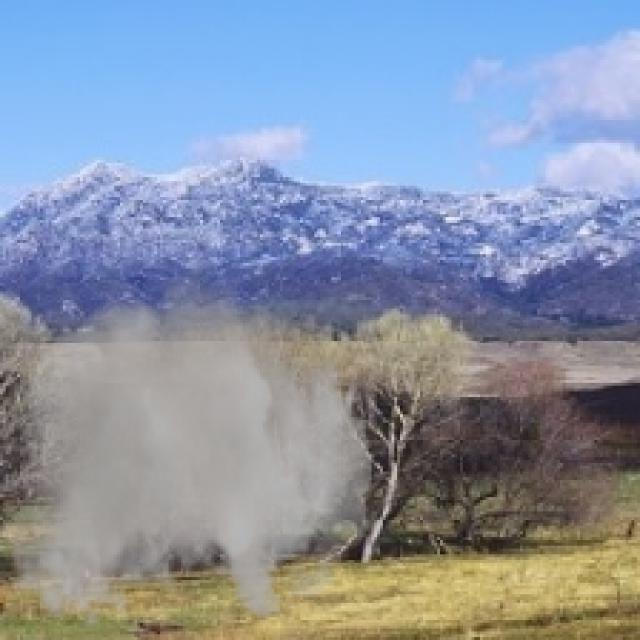smoke: (9, 248, 372, 632)
